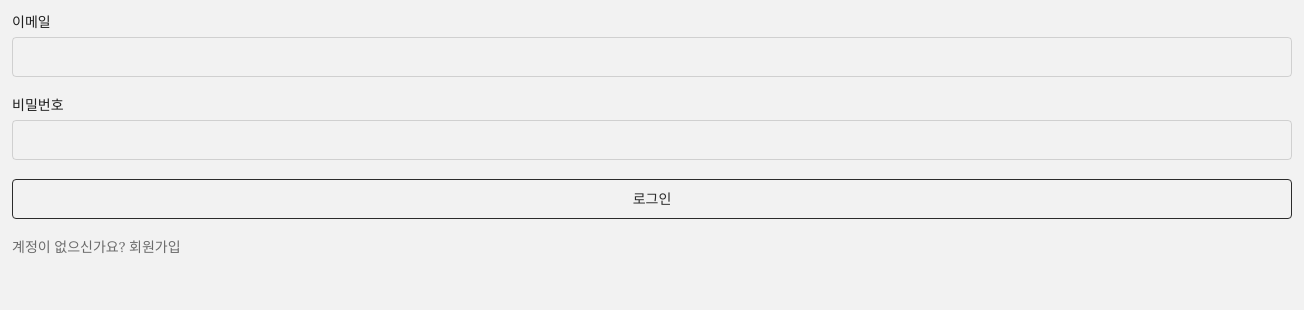
Scenario: AC-AUTH-027 — 로그인 실패 시 서버 오류 메시지 표시, 이동 없음 › 401 응답의 error 필드를 role=alert에 정확히 표시하고 이동하지 않는다
Step 1. Type "customer@example.com" into the field labelled "이메일" → (652,57), box left=12, top=37, right=1292, bottom=77
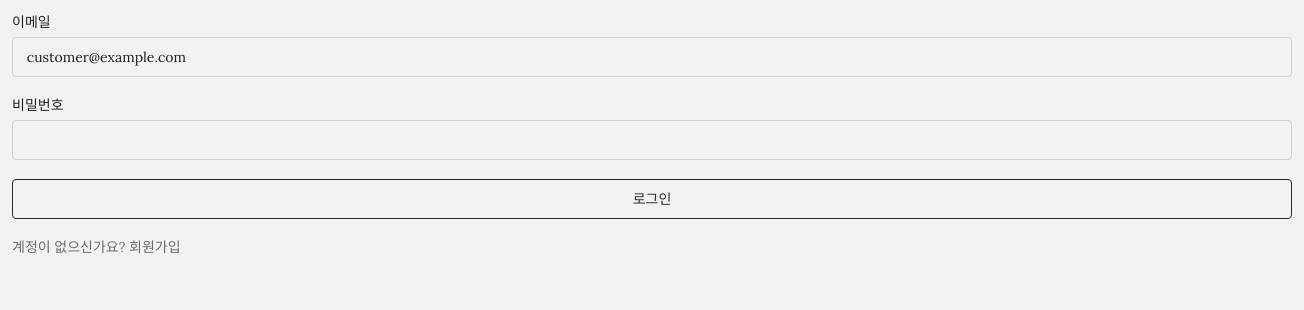
Step 2. Type "wrong" into the password field labelled "비밀번호" → (652,140), box left=12, top=120, right=1292, bottom=160
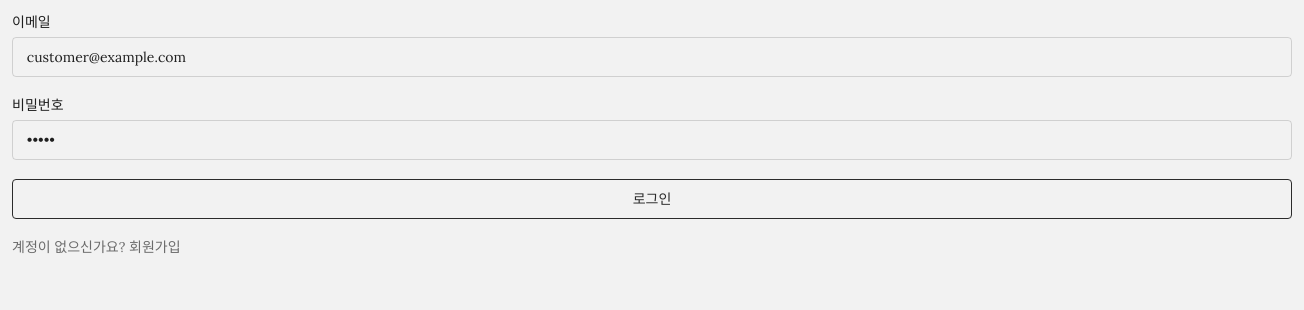
Step 3. Click the button "로그인" → (652,199), box left=12, top=179, right=1292, bottom=219
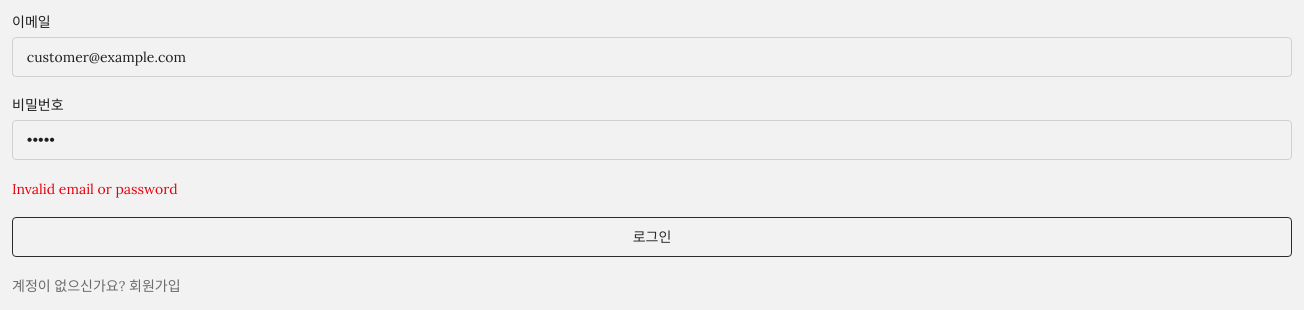
Expected: the message reads "Invalid email or password", left=12, top=180, right=178, bottom=198
